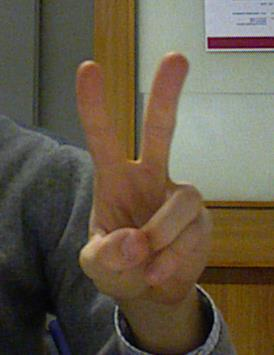front: (70, 51, 223, 305)
